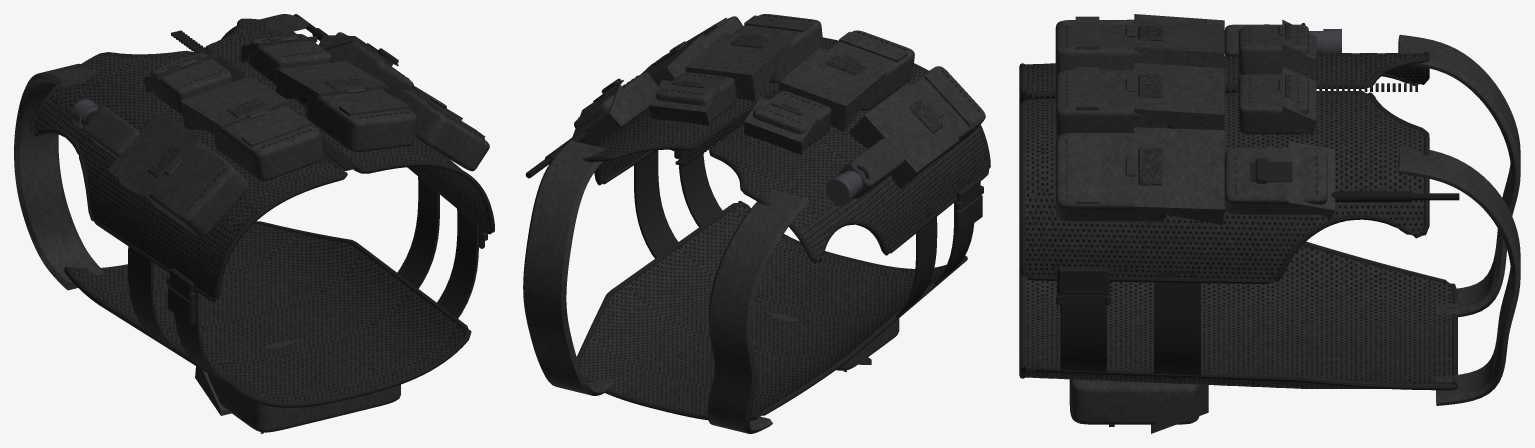
Rendered from colete_carga.glb.
3 views of the same model, side by side, from view 1: azimuth 30°, elevation 25°; view 2: azimuth 150°, elevation 25°; view 3: azimuth 270°, elevation 25° (orthographic). The views are drawn at different scales.
Parts seen in each view (by area): view 1: colete_carga_malha_preta, colete_carga_cordura_preta, colete_carga_nylon_preto, colete_carga_velcro_preto, colete_carga_aluminio_escuro; view 2: colete_carga_cordura_preta, colete_carga_malha_preta, colete_carga_nylon_preto, colete_carga_velcro_preto, colete_carga_aluminio_escuro, colete_carga_pc_preto; view 3: colete_carga_malha_preta, colete_carga_cordura_preta, colete_carga_nylon_preto, colete_carga_velcro_preto, colete_carga_pc_preto, colete_carga_aluminio_escuro.
Part boxes in pixels (box(x1,y1,x2,y2)): colete_carga_malha_preta: box(33, 20, 489, 402); colete_carga_cordura_preta: box(14, 14, 489, 432); colete_carga_nylon_preto: box(30, 18, 494, 407); colete_carga_velcro_preto: box(148, 34, 430, 178); colete_carga_aluminio_escuro: box(71, 99, 99, 128); colete_carga_cordura_preta: box(523, 14, 985, 433); colete_carga_malha_preta: box(579, 39, 988, 416); colete_carga_nylon_preto: box(576, 37, 990, 420); colete_carga_velcro_preto: box(653, 35, 943, 133); colete_carga_aluminio_escuro: box(825, 170, 862, 205); colete_carga_pc_preto: box(525, 130, 587, 178); colete_carga_malha_preta: box(1025, 53, 1452, 388); colete_carga_cordura_preta: box(1055, 14, 1520, 433); colete_carga_nylon_preto: box(1019, 51, 1457, 426); colete_carga_velcro_preto: box(1138, 23, 1290, 185); colete_carga_pc_preto: box(1331, 191, 1459, 202); colete_carga_aluminio_escuro: box(1309, 29, 1341, 53).
Size of the model in its own units: 0.4331 by 0.4003 by 0.5338.
Materials: 9 (4 with a texture image).
